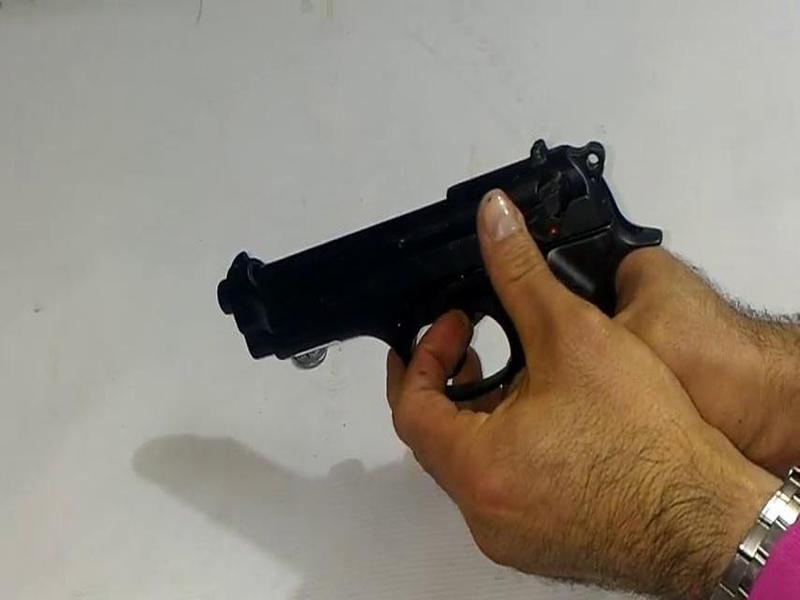Pistola: (207, 129, 679, 426)
